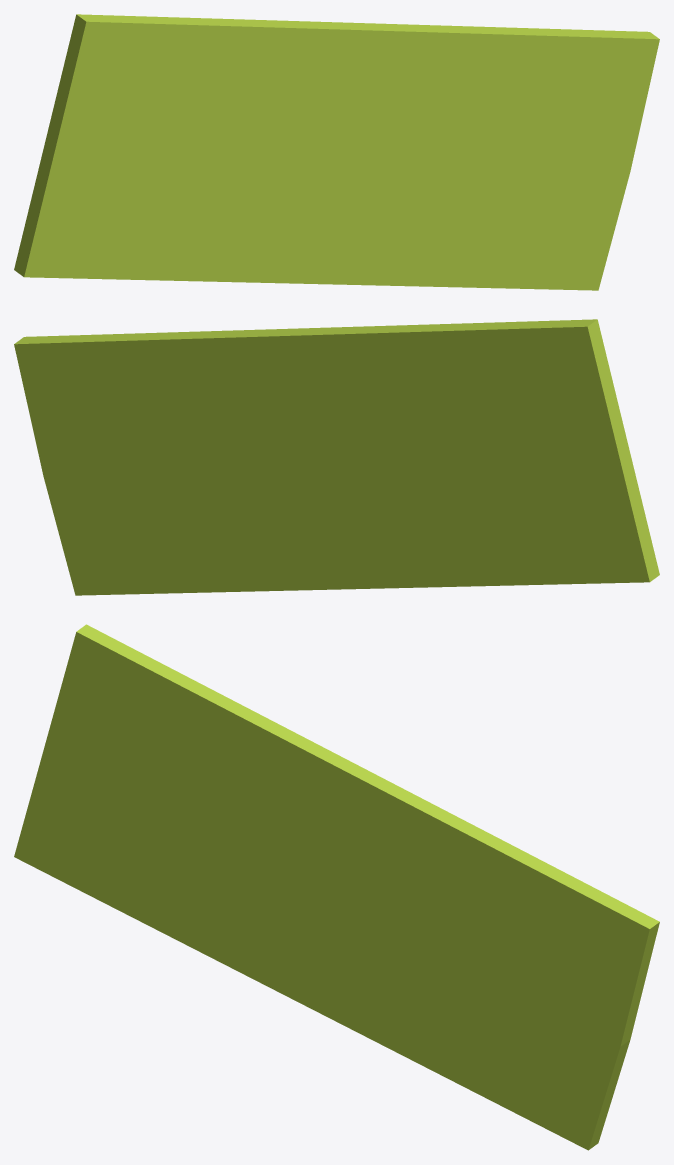
3 views of the same model, one above another, from view 1: azimuth 30°, elevation 25°; view 2: azimuth 150°, elevation 25°; view 3: azimuth 330°, elevation 25° (orthographic).
Parts seen in each view (by area): view 1: osm-way27917482-F3; view 2: osm-way27917482-F3; view 3: osm-way27917482-F3.
Part boxes in pixels (<box>): osm-way27917482-F3: <box>14,14,659,290</box>; osm-way27917482-F3: <box>14,319,659,595</box>; osm-way27917482-F3: <box>14,624,659,1150</box>.
Size of the model in its own units: 5.45 by 3.23 by 0.15.
